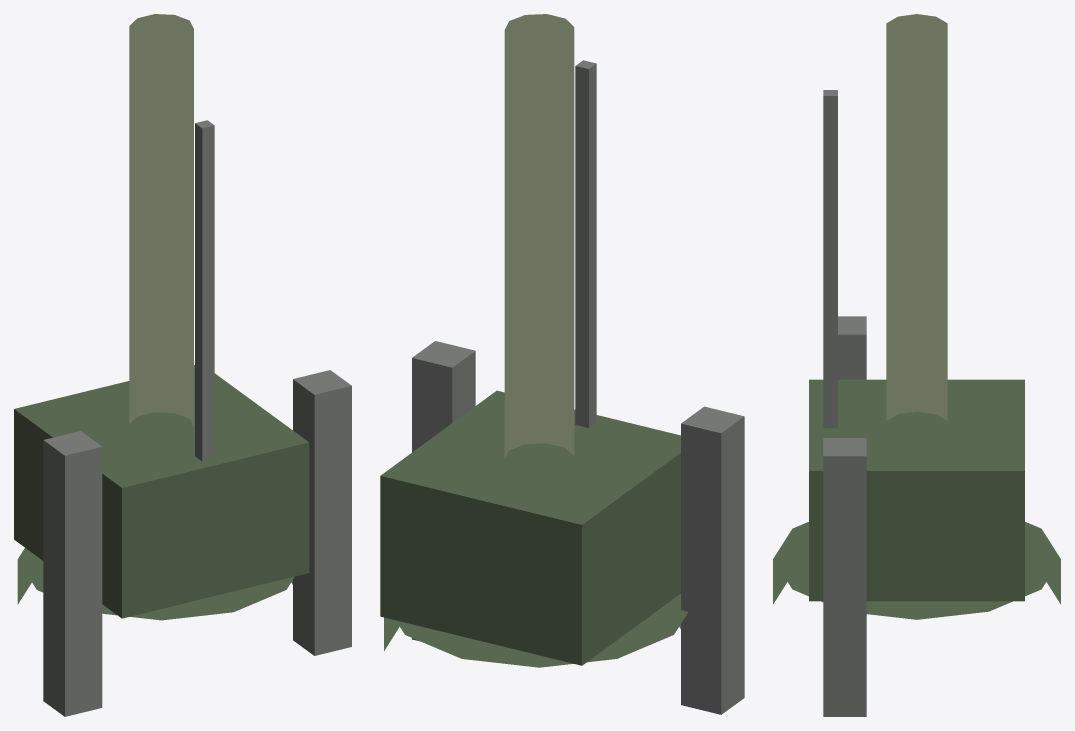
Rendered from g_mortar.glb.
The picture shows the model from 3 angles, left to right: view 1: azimuth 30°, elevation 25°; view 2: azimuth 150°, elevation 25°; view 3: azimuth 270°, elevation 25°; orthographic projection. The views are drawn at different scales.
Parts seen in each view (by area): view 1: body; view 2: body; view 3: body.
Part boxes in pixels (bbox=[...]): body: bbox=[14, 14, 351, 716]; body: bbox=[380, 14, 744, 714]; body: bbox=[773, 14, 1060, 716].
Size of the model in its own units: 0.46 by 0.95 by 0.4.
